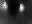person: (19, 4, 26, 15), (3, 3, 9, 15)
